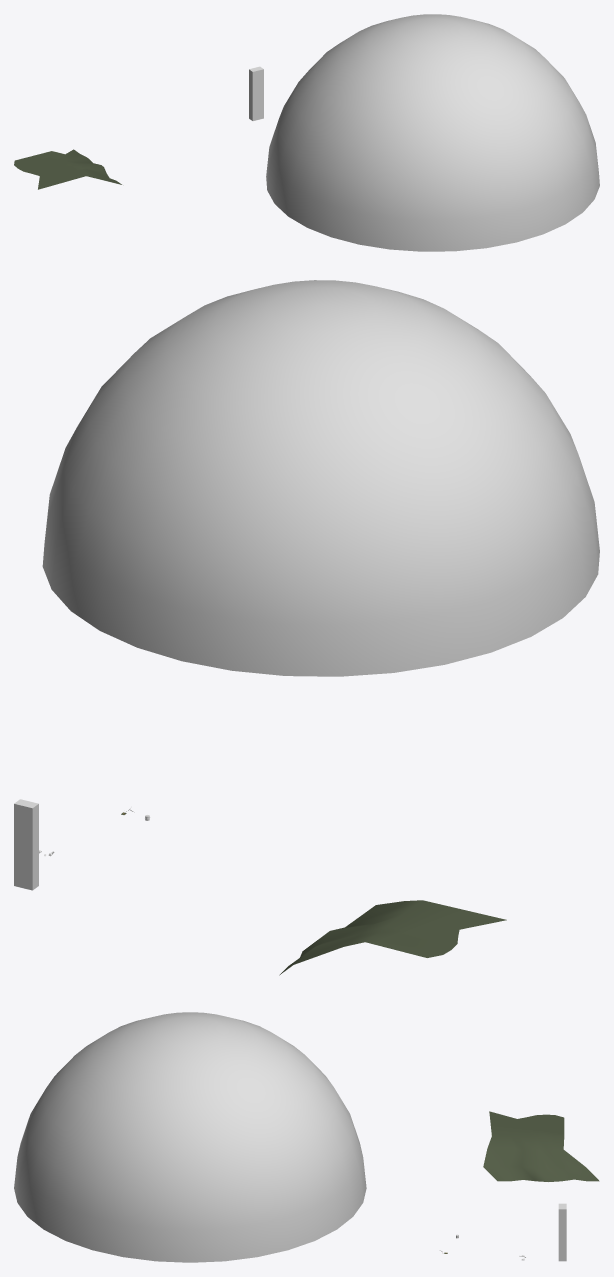
The model's file is SeaPlant.fbx.
3 renders of one model, top to bottom at view 1: azimuth 30°, elevation 25°; view 2: azimuth 150°, elevation 25°; view 3: azimuth 270°, elevation 25°, orthographic. The views are drawn at different scales.
Parts seen in each view (by area): view 1: Cylinder.001, Plane, Cube.054; view 2: Cylinder.001, Plane, Cube.054; view 3: Cylinder.001, Plane, Cube.054.
Part boxes in pixels (box(x1,y1,x2,y2)): Cylinder.001: box(266, 14, 599, 251); Plane: box(14, 149, 121, 189); Cube.054: box(249, 66, 263, 120); Cylinder.001: box(42, 280, 599, 676); Plane: box(279, 900, 506, 975); Cube.054: box(14, 799, 38, 890); Cylinder.001: box(14, 1012, 366, 1262); Plane: box(483, 1111, 599, 1181); Cube.054: box(558, 1203, 566, 1261).
Bounding box in the file's own units: 33512 × 18030 × 40514.
